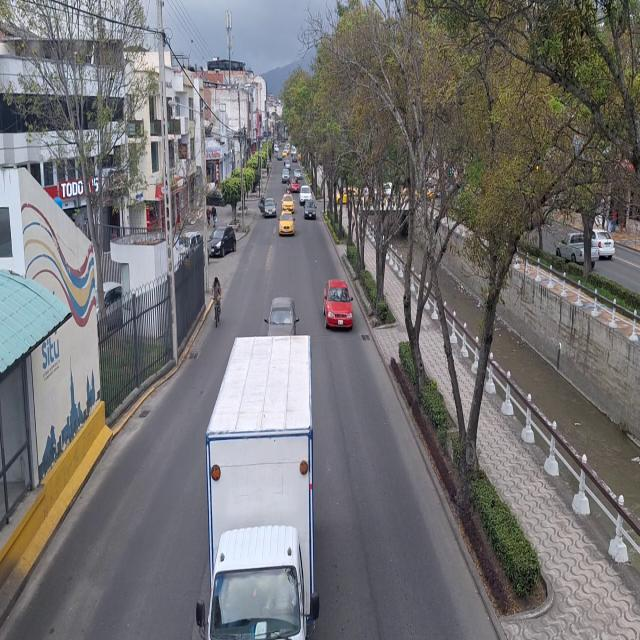CMT: (556, 232, 600, 265)
TRUCK: (208, 336, 316, 640)
